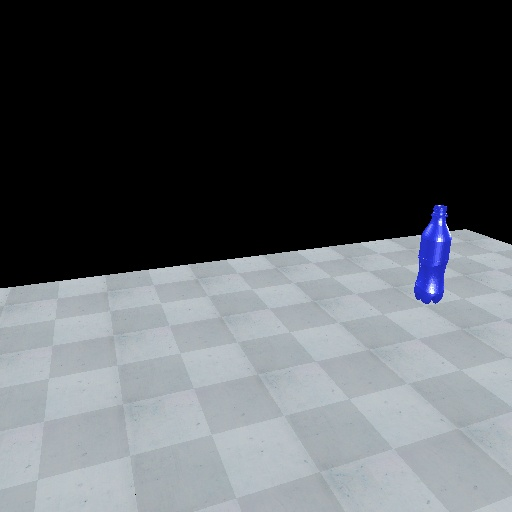bottle: (412, 204, 455, 305)
